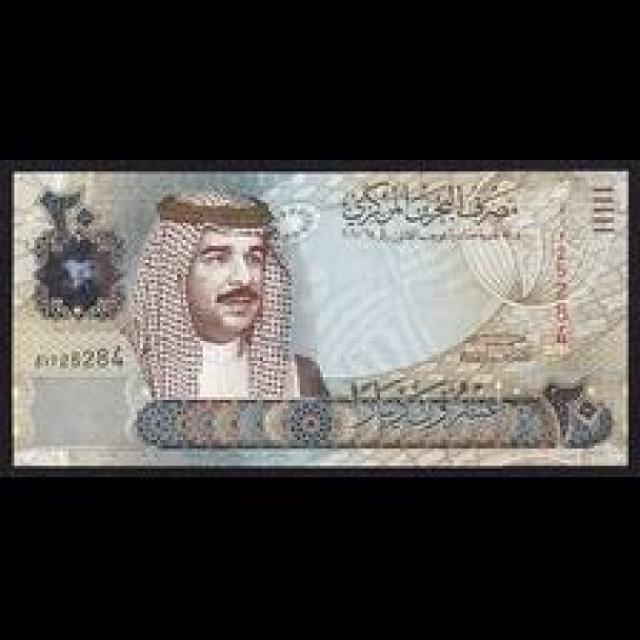banknote: (16, 172, 637, 471)
